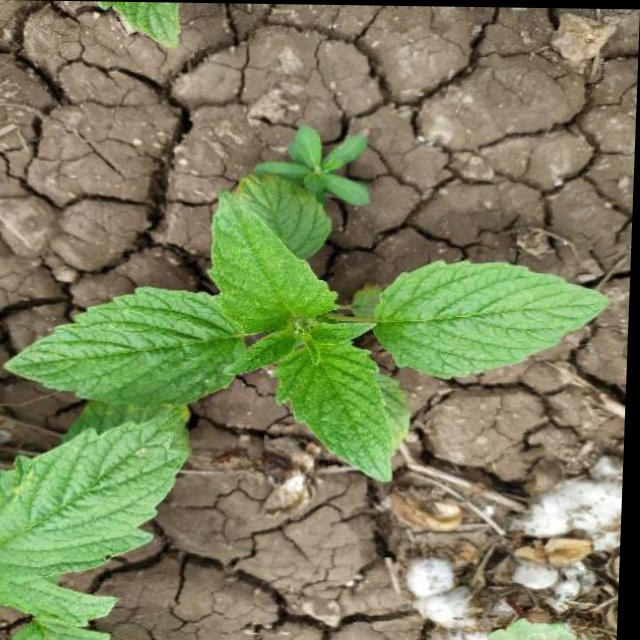crop: (0, 178, 623, 486)
